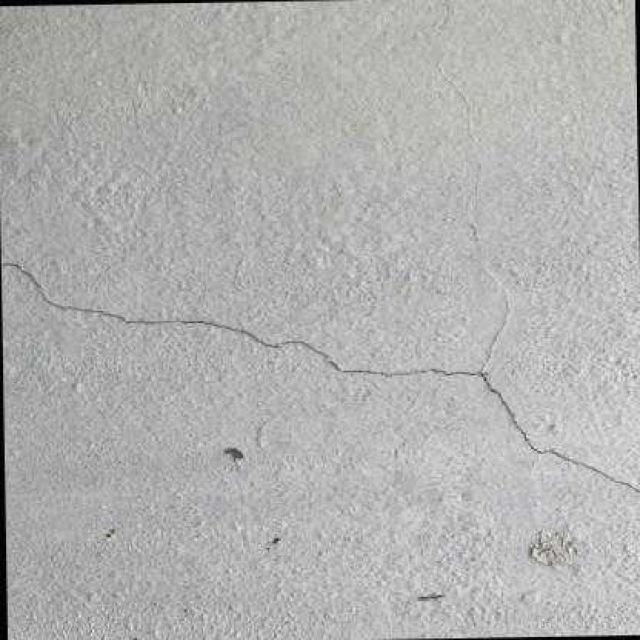D00: (3, 263, 640, 494)
